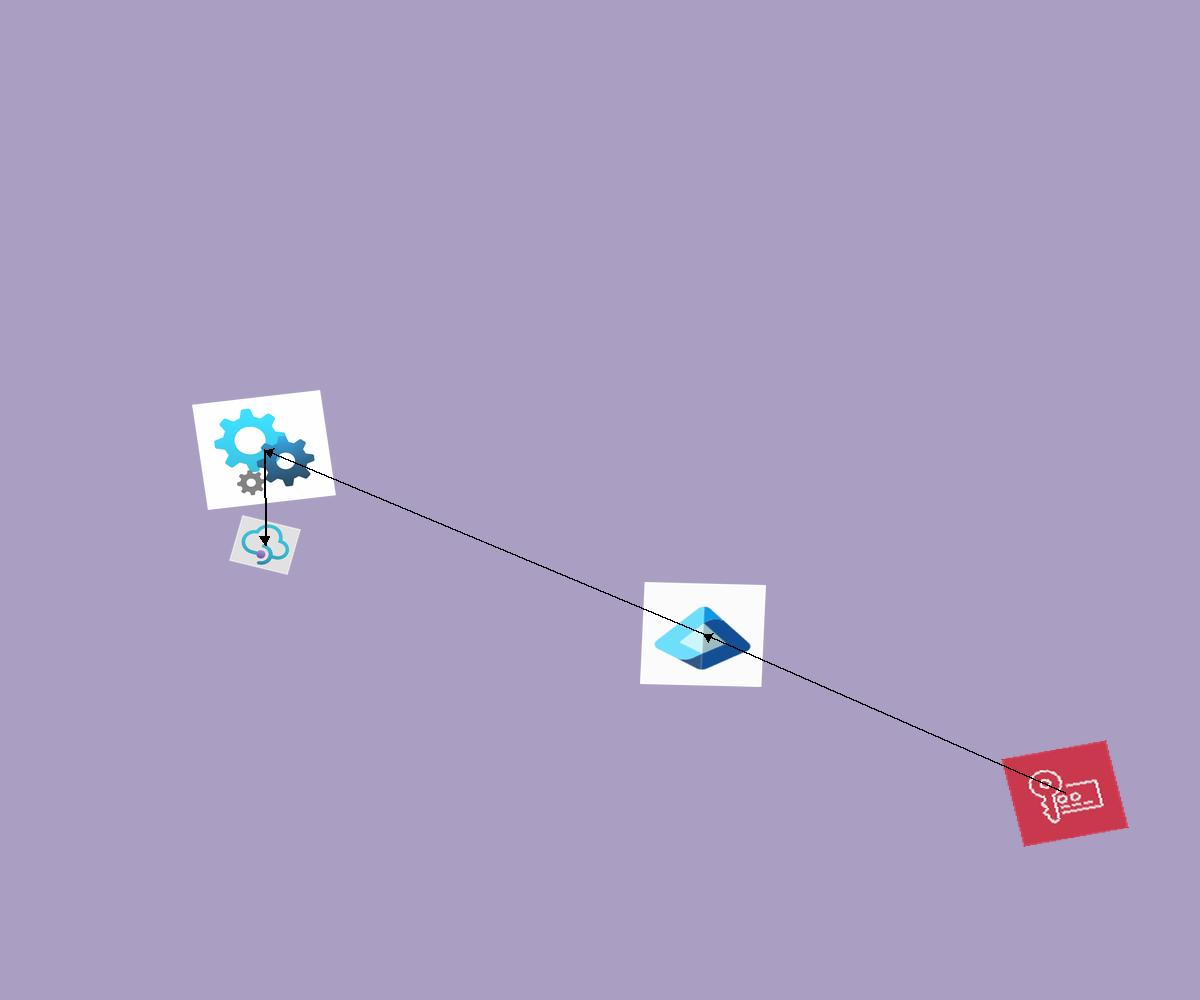AWS-Key-Management-Service: (1001, 740, 1129, 847)
Azure_api: (192, 390, 336, 510)
Azure_api_gateway: (229, 515, 301, 575)
Azure_microsoft_entra: (640, 582, 766, 687)
